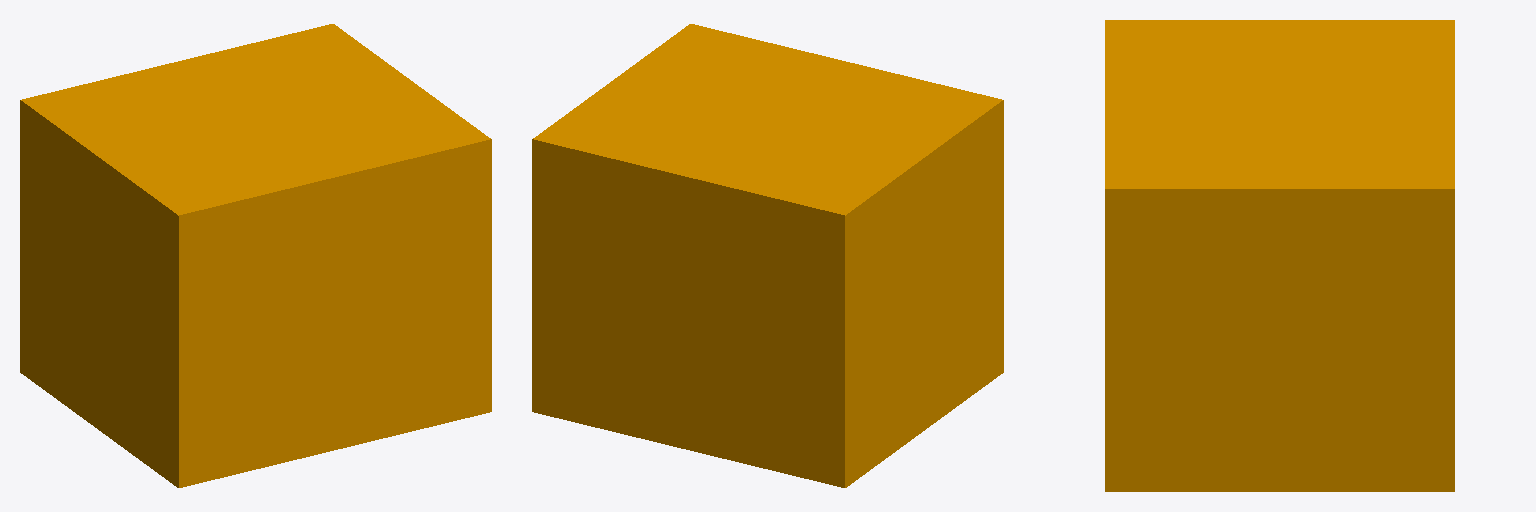
robot.urdf — object:
<robot name="object">
  <link name="object">
    <visual>
      <origin xyz="0 0 0" />
      <geometry>
        <box size="0.09600000000000003 0.08400000000000002 0.08" />
      </geometry>
    </visual>

    <collision>
      <origin xyz="0 0 0" />
      <geometry>
        <box size="0.09600000000000003 0.08400000000000002 0.08" />
      </geometry>
    </collision>

    <inertial>
      <mass value="0.05" />
      <inertia ixx="0.0001" ixy="0.0" ixz="0.0" iyy="0.0001" iyz="0.0" izz="0.0001" />
    </inertial>
  </link>
</robot>

--- What the picture shows (computed from the rendered views, not written in the file) ---
3 views of the same robot in one strip: view 1: azimuth 30°, elevation 25°; view 2: azimuth 150°, elevation 25°; view 3: azimuth 270°, elevation 25° (orthographic).
Robot: object — 1 links, 0 joints (none); root link object; default pose: all joints at 0.
Links seen in each view (by area): view 1: object; view 2: object; view 3: object.
Link boxes in pixels (x1,y1,x2,y2): object: (20, 24, 491, 487); object: (532, 24, 1003, 487); object: (1105, 20, 1454, 491).
Size in the robot's own frame: 0.096 by 0.084 by 0.08 metres.
Geometry: primitives only (box / cylinder / sphere), no mesh files.